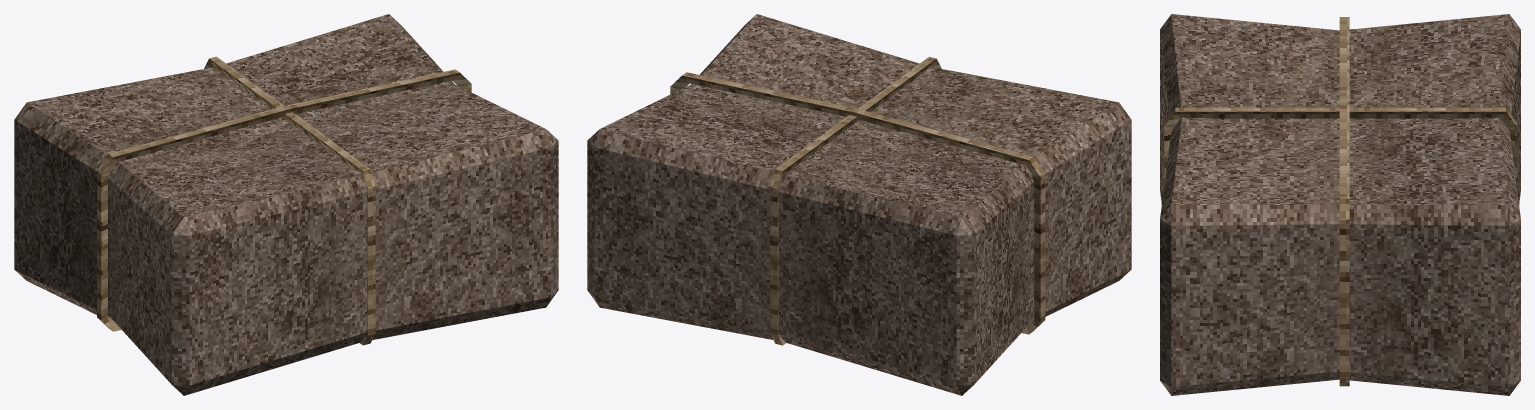
File: haybale_wrapped_alt_dry.glb
3 renders of one model, left to right at view 1: azimuth 30°, elevation 25°; view 2: azimuth 150°, elevation 25°; view 3: azimuth 270°, elevation 25°, orthographic. The views are drawn at different scales.
Parts seen in each view (by area): view 1: haybale_wrapped_alt_dry; view 2: haybale_wrapped_alt_dry; view 3: haybale_wrapped_alt_dry.
Boxes of the visible parts, bbox=[...] form: haybale_wrapped_alt_dry: bbox=[14, 14, 558, 395]; haybale_wrapped_alt_dry: bbox=[587, 14, 1131, 395]; haybale_wrapped_alt_dry: bbox=[1160, 14, 1520, 395].
Bounding box in the file's own units: 1.8 × 0.8255 × 1.35.
2 materials, 2 textured.
